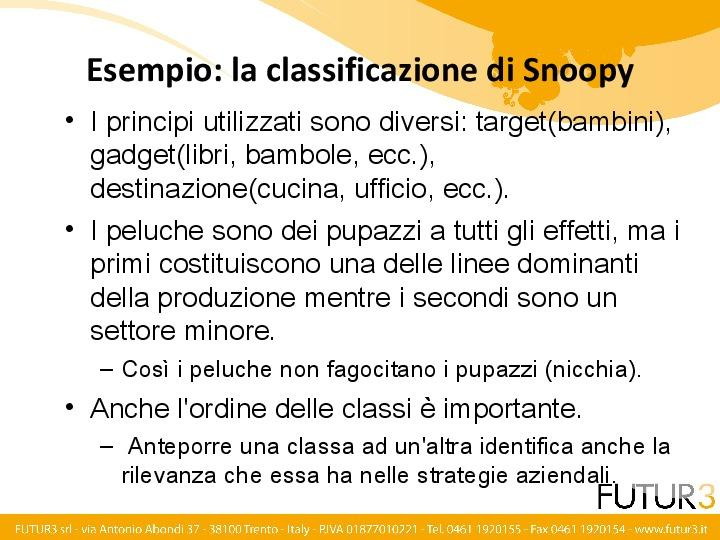paragraph: (79, 102, 702, 491)
title: (76, 39, 653, 97)
